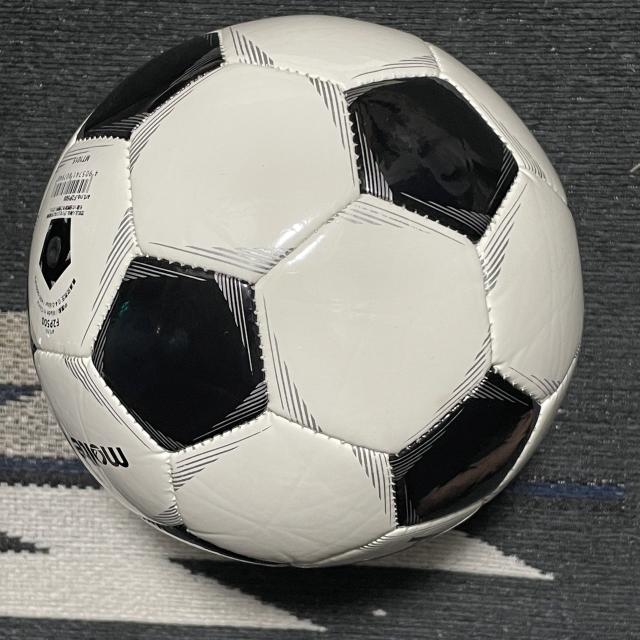ball: (29, 13, 583, 571)
